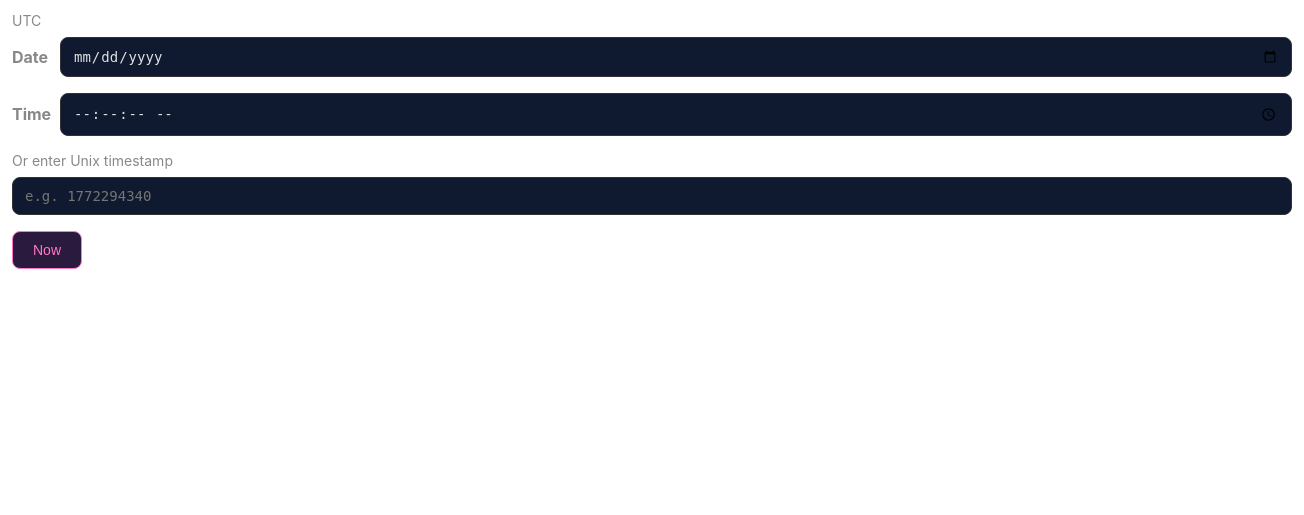
it: DatetimeUnix › Now button fills current time
Click the button "Now" at (47, 250), box left=12, top=231, right=82, bottom=269
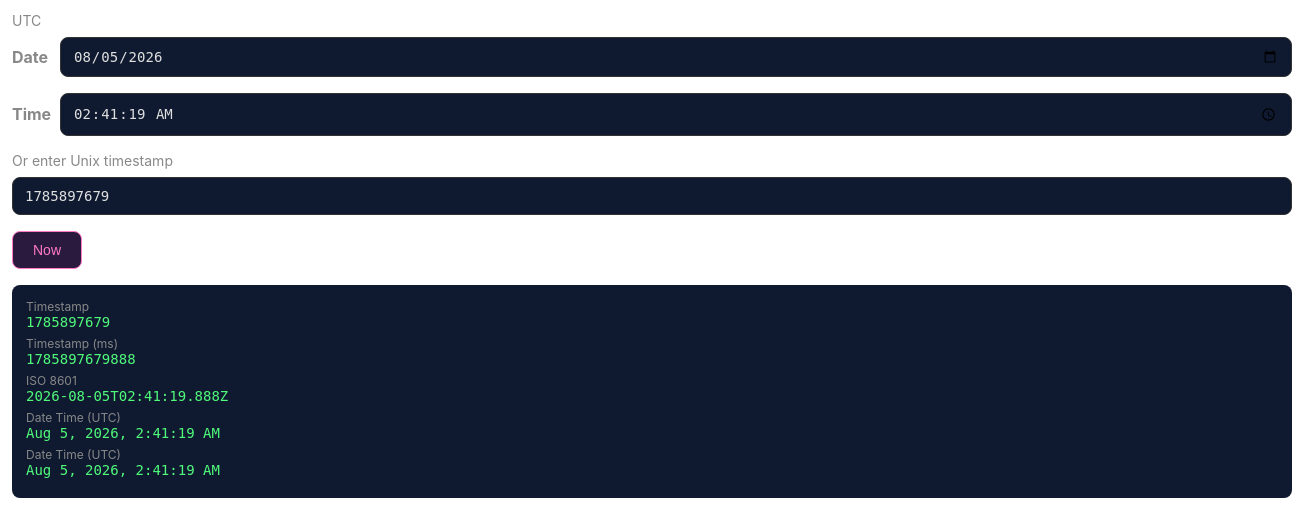
Check: the element with class "tool-result" is shown, box left=12, top=285, right=1292, bottom=498
Check: the text "Timestamp" is shown, box left=26, top=299, right=89, bottom=314
Check: the text "ISO 8601" is shown, box left=26, top=373, right=77, bottom=388
